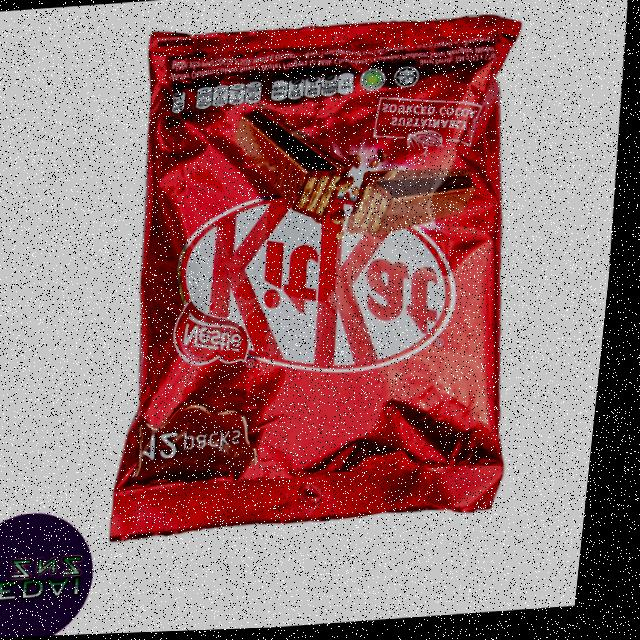kitkat: (104, 19, 534, 543)
